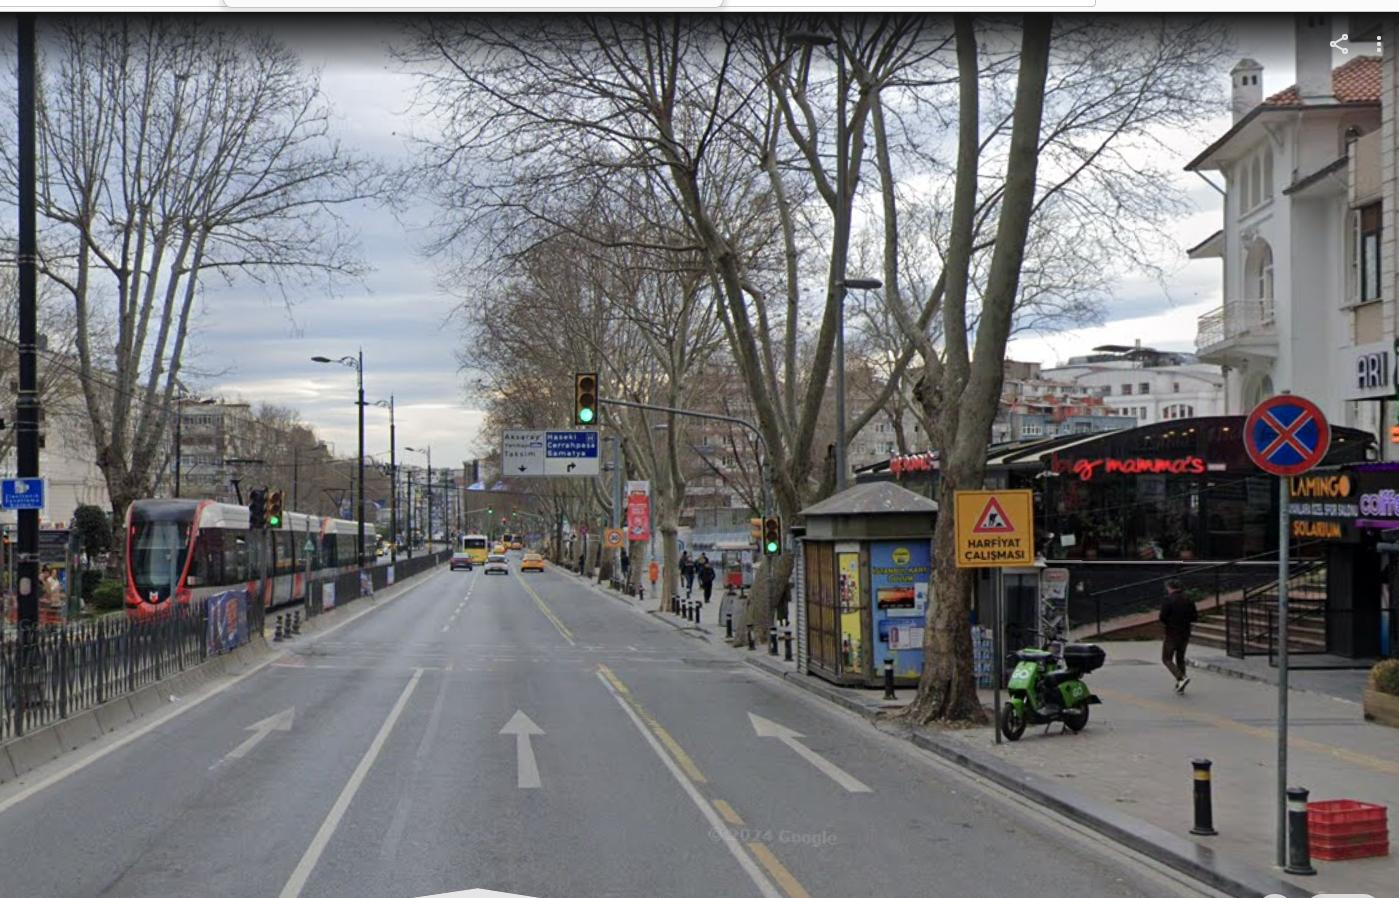greenlight: (576, 373, 597, 428), (764, 516, 781, 554), (266, 491, 282, 527), (511, 507, 517, 517), (487, 504, 493, 514)
